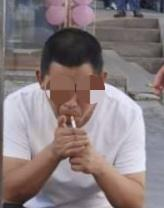smoke: (71, 115, 78, 131)
